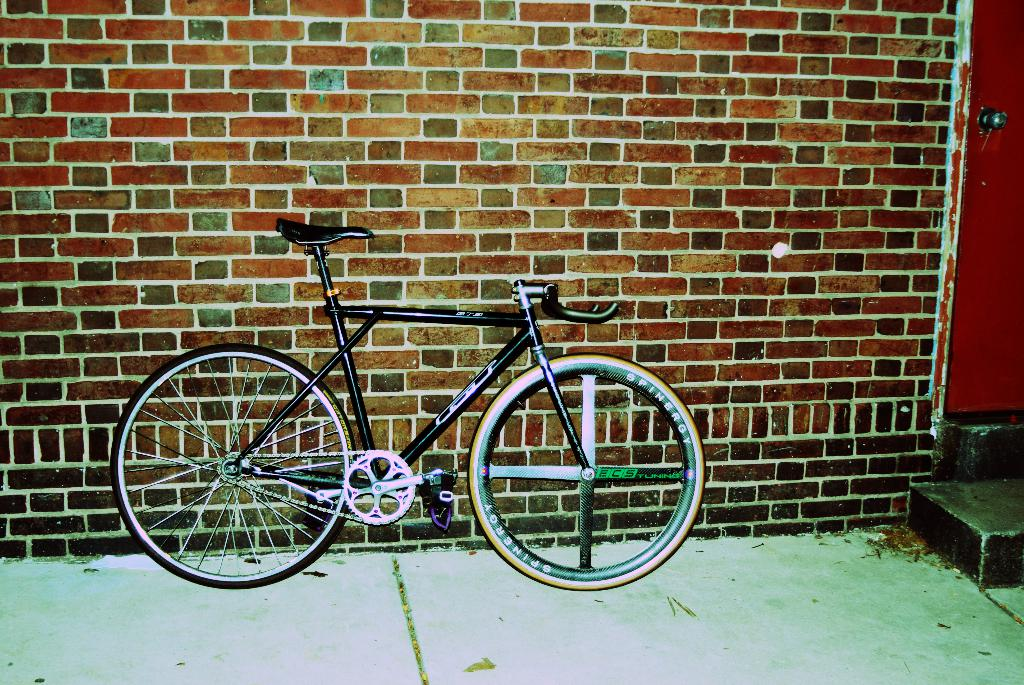Bike_toward: (116, 278, 622, 549)
